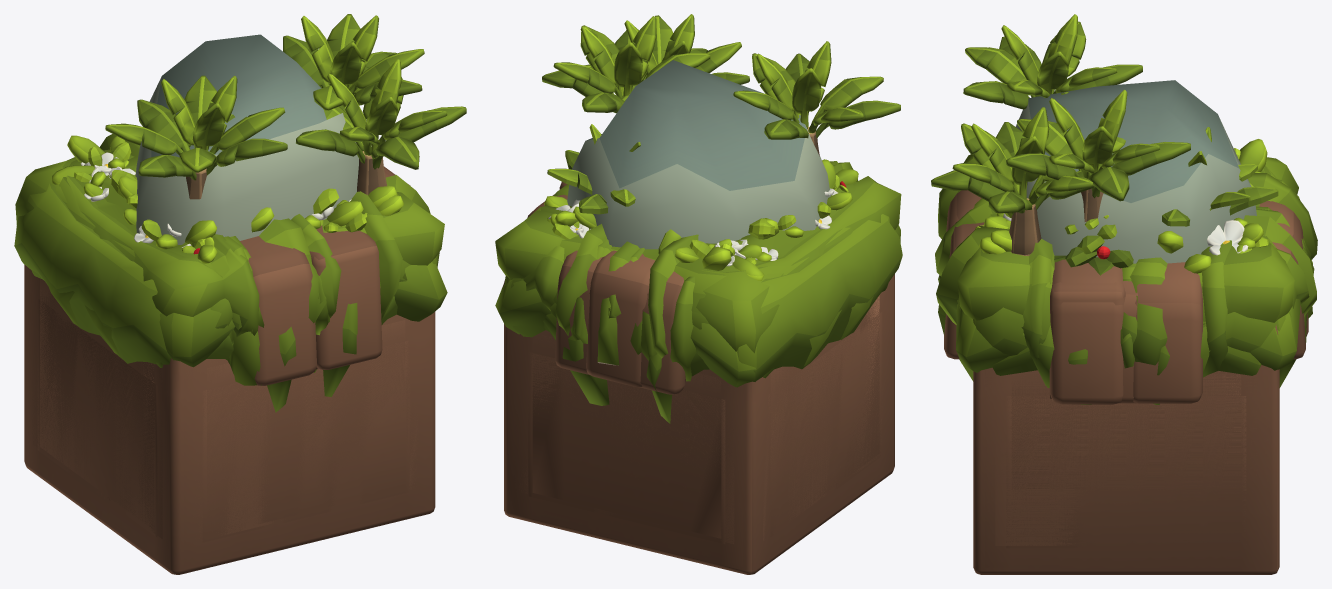
File: Spring_Cubes_LastLastLast.fbx
3 renders of one model, left to right at view 1: azimuth 30°, elevation 25°; view 2: azimuth 150°, elevation 25°; view 3: azimuth 270°, elevation 25°, orthographic. The views are drawn at different scales.
Parts seen in each view (by area): view 1: Spring4, Spring1, Spring2, Spring_Cube_03.004, Spring_Cube5.001, Spring_Cube3.002, Spring9, Tree_Spring.006, Spring5, Tree_Spring, Road10.001, Tree_Spring.008 (+16 smaller); view 2: Spring4, Spring_Cube_03.004, Spring1, Spring_Cube5.001, Spring_Cube3.002, Spring3, Spring6, Tree_Spring.006, Spring2, Spring9, Spring5, Tree_Spring.008 (+15 smaller); view 3: Spring4, Spring2, Spring_Cube_03.004, Spring1, Spring_Cube3.002, Spring5, Road10.001, Tree_Spring, Tree_Spring.008, Tree_Spring.006, Road11, Spring_Cube12.001 (+18 smaller).
Boxes of the visible parts, bbox=[...] form: Spring4: bbox=[24, 265, 435, 574]; Spring1: bbox=[40, 278, 405, 535]; Spring2: bbox=[37, 298, 409, 542]; Spring_Cube_03.004: bbox=[135, 34, 358, 244]; Spring_Cube5.001: bbox=[14, 183, 439, 385]; Spring_Cube3.002: bbox=[15, 134, 444, 345]; Spring9: bbox=[27, 268, 428, 566]; Tree_Spring.006: bbox=[105, 75, 287, 199]; Spring5: bbox=[32, 273, 418, 538]; Tree_Spring: bbox=[296, 59, 466, 194]; Road10.001: bbox=[240, 170, 391, 385]; Tree_Spring.008: bbox=[283, 14, 424, 110]; Spring4: bbox=[504, 274, 894, 574]; Spring_Cube_03.004: bbox=[567, 60, 830, 249]; Spring1: bbox=[532, 306, 879, 538]; Spring_Cube5.001: bbox=[504, 214, 902, 387]; Spring_Cube3.002: bbox=[495, 162, 901, 358]; Spring3: bbox=[528, 317, 879, 544]; Spring6: bbox=[532, 295, 879, 530]; Tree_Spring.006: bbox=[733, 41, 900, 156]; Spring2: bbox=[528, 312, 882, 543]; Spring9: bbox=[502, 279, 892, 566]; Spring5: bbox=[519, 288, 887, 543]; Tree_Spring.008: bbox=[542, 16, 710, 112]; Spring4: bbox=[973, 365, 1279, 574]; Spring2: bbox=[1006, 396, 1246, 548]; Spring_Cube_03.004: bbox=[1015, 80, 1256, 263]; Spring1: bbox=[1011, 374, 1241, 529]; Spring_Cube3.002: bbox=[935, 154, 1317, 324]; Spring5: bbox=[995, 371, 1257, 545]; Road10.001: bbox=[946, 190, 1123, 404]; Tree_Spring: bbox=[931, 107, 1099, 255]; Tree_Spring.008: bbox=[1006, 89, 1190, 221]; Tree_Spring.006: bbox=[963, 14, 1142, 109]; Road11: bbox=[1133, 262, 1202, 403]; Spring_Cube12.001: bbox=[936, 198, 1167, 385].
Bounding box in the file's own units: 124 × 165 × 126.
